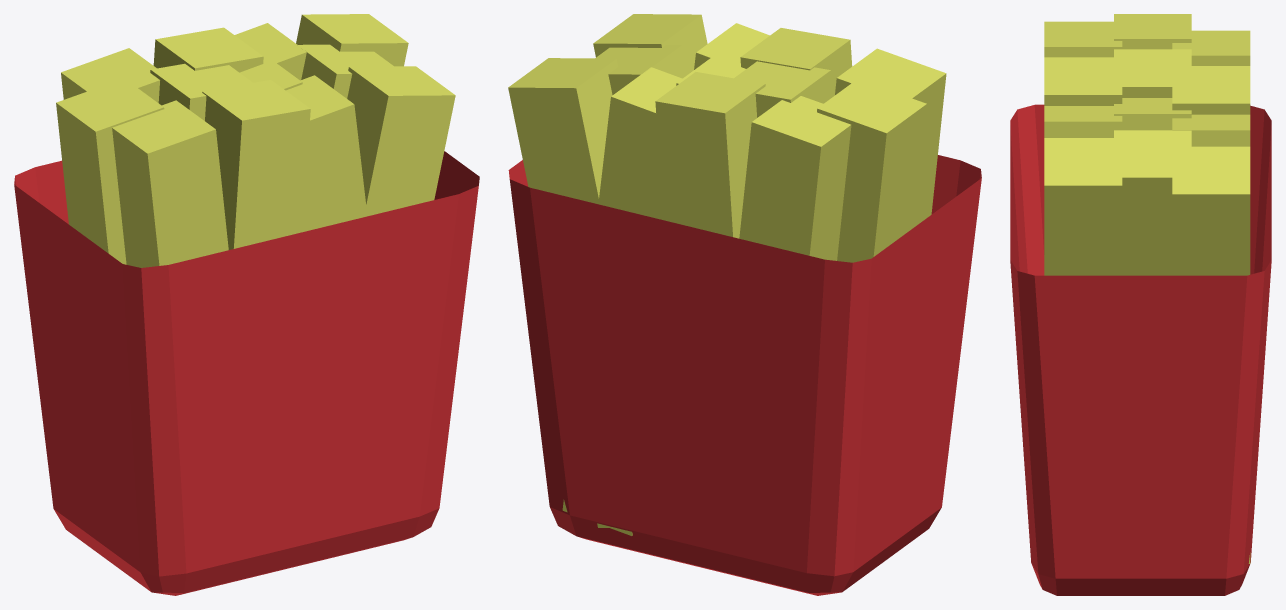
Rendered from Fries.fbx.
3 views of the same model, side by side, from view 1: azimuth 30°, elevation 25°; view 2: azimuth 150°, elevation 25°; view 3: azimuth 270°, elevation 25° (orthographic). The views are drawn at different scales.
Parts seen in each view (by area): view 1: Cube, Cube.001, Cube.002, Cube.004, Cube.005, Cube.003, Cube.012, Cube.010, Cube.009, Cube.006, Cube.008, Cube.011 (+1 smaller); view 2: Cube, Cube.009, Cube.010, Cube.005, Cube.012, Cube.011, Cube.001, Cube.002, Cube.004, Cube.006, Cube.008, Cube.003 (+1 smaller); view 3: Cube, Cube.004, Cube.012, Cube.008, Cube.002, Cube.010, Cube.006, Cube.001, Cube.005, Cube.003, Cube.009, Cube.011 (+1 smaller).
Part boxes in pixels (<box>): Cube: <box>14,151,479,595</box>; Cube.001: <box>112,100,228,267</box>; Cube.002: <box>202,80,310,249</box>; Cube.004: <box>347,66,455,215</box>; Cube.005: <box>56,78,164,264</box>; Cube.003: <box>286,75,367,232</box>; Cube.012: <box>296,14,408,66</box>; Cube.010: <box>153,27,263,72</box>; Cube.009: <box>61,48,159,102</box>; Cube.006: <box>150,63,252,120</box>; Cube.008: <box>297,44,393,98</box>; Cube.011: <box>234,23,306,80</box>; Cube: <box>508,155,981,595</box>; Cube.009: <box>739,96,851,260</box>; Cube.010: <box>655,72,765,238</box>; Cube.005: <box>817,79,926,262</box>; Cube.012: <box>508,58,618,527</box>; Cube.011: <box>562,67,682,535</box>; Cube.001: <box>835,48,946,227</box>; Cube.002: <box>740,28,852,96</box>; Cube.004: <box>593,14,707,74</box>; Cube.006: <box>734,61,832,117</box>; Cube.008: <box>595,45,687,94</box>; Cube.003: <box>694,23,769,69</box>; Cube: <box>1010,104,1271,595</box>; Cube.004: <box>1044,138,1122,275</box>; Cube.012: <box>1172,146,1250,275</box>; Cube.008: <box>1114,130,1191,275</box>; Cube.002: <box>1044,57,1122,105</box>; Cube.010: <box>1172,66,1250,114</box>; Cube.006: <box>1114,49,1191,97</box>; Cube.001: <box>1044,21,1122,57</box>; Cube.005: <box>1114,14,1191,49</box>; Cube.003: <box>1044,106,1122,137</box>; Cube.009: <box>1172,30,1250,65</box>; Cube.011: <box>1172,114,1250,563</box>.
Bounding box in the file's own units: 120 × 149 × 77.61.
